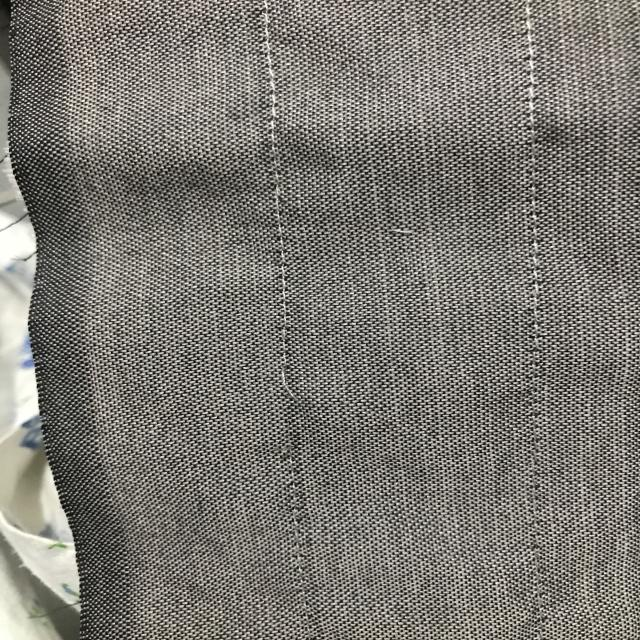broken: (273, 354, 314, 479)
good: (260, 202, 298, 318)
